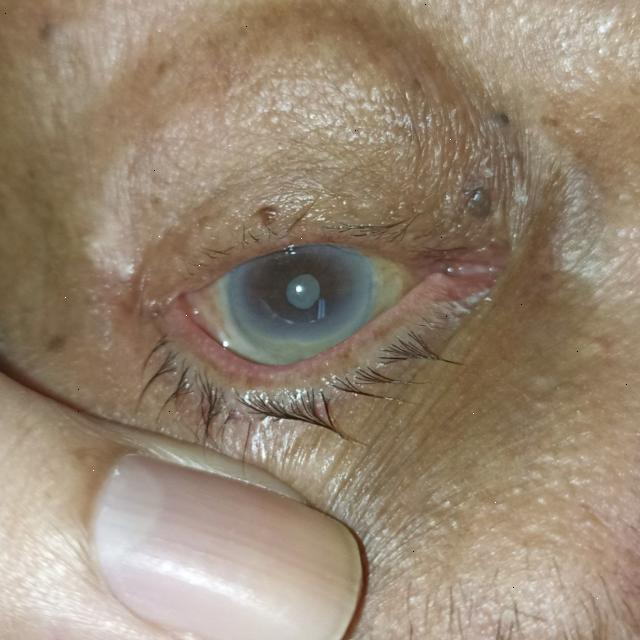Cataract: (224, 215, 374, 360)
